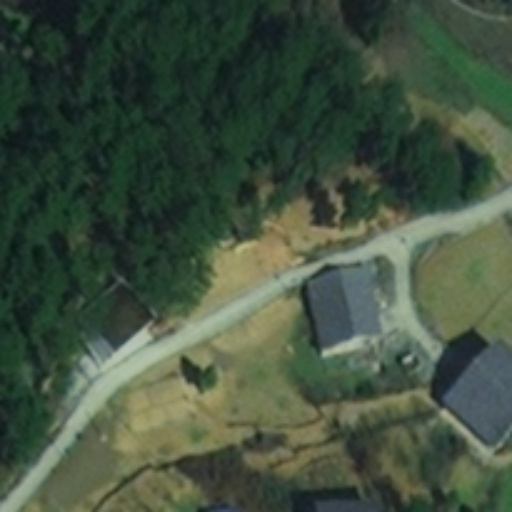landslide: (189, 194, 321, 317)
